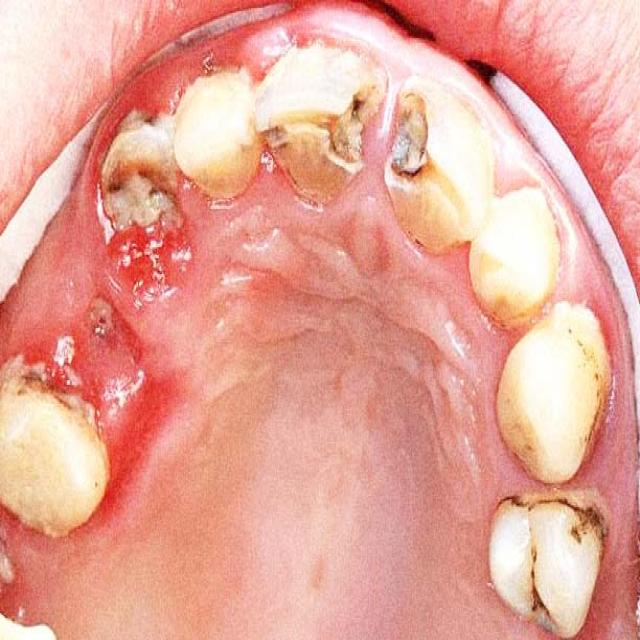caries: (258, 69, 382, 173), (101, 132, 181, 226), (381, 86, 448, 198), (515, 557, 563, 634)
